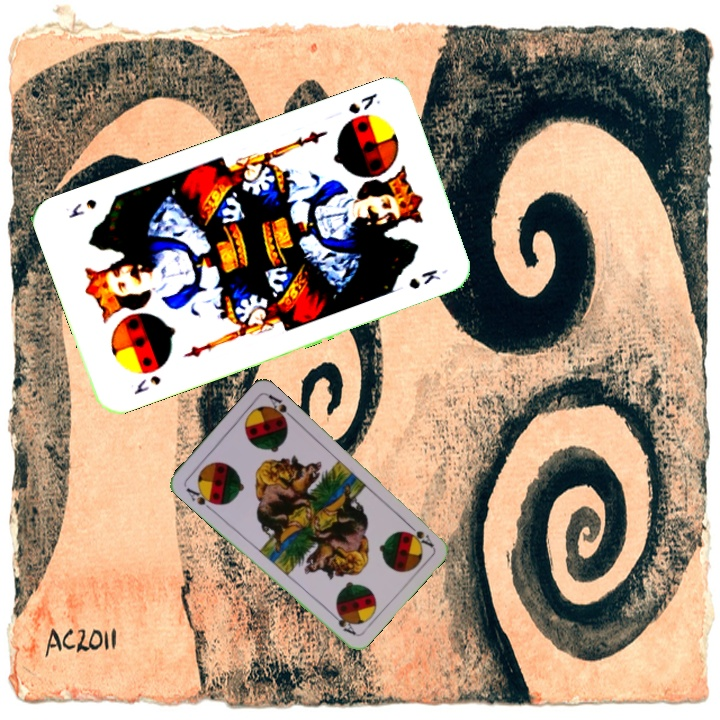SA: (182, 483, 219, 513), (402, 518, 436, 550)
SK: (344, 89, 383, 117), (130, 371, 164, 397)
